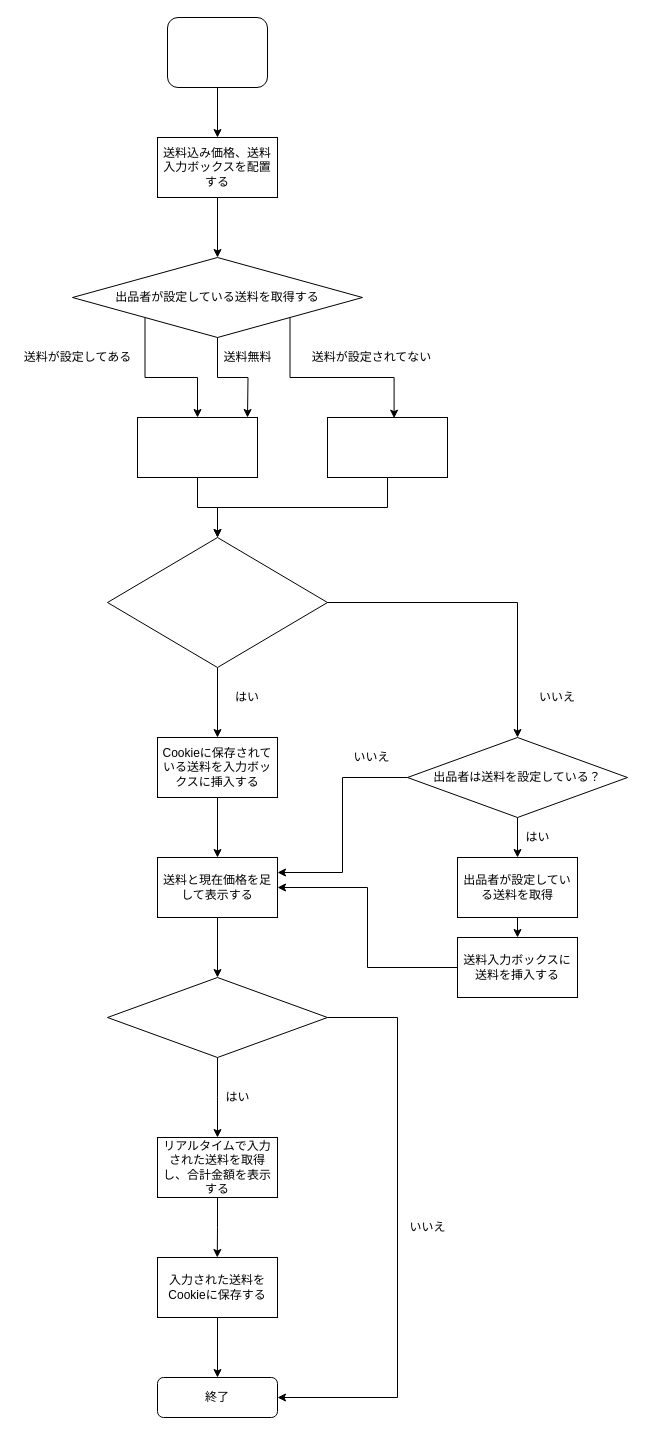
Some shapes in this 645 by 1435 pixel diagram are drawn without their labels. Here are the shapes that lost their labels. From the top down, the centre of each, then its label:
At [217,52]: "開始".
At [197,447]: "送料を取得".
At [387,447]: "送料はnull".
At [217,602]: "Cookieに送料は保存されてる？".
At [217,1017]: "ユーザーが送料を書き換えた？".
